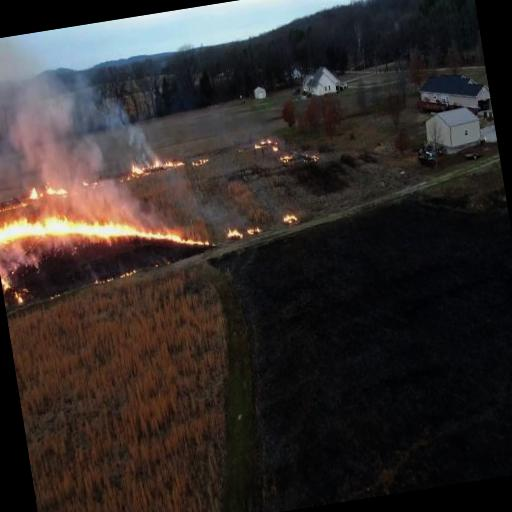fire: (0, 154, 221, 289), (226, 224, 266, 242), (254, 136, 283, 154), (282, 213, 301, 229), (279, 152, 298, 166)
smoke: (0, 69, 157, 263), (99, 94, 162, 178), (6, 238, 42, 274)
